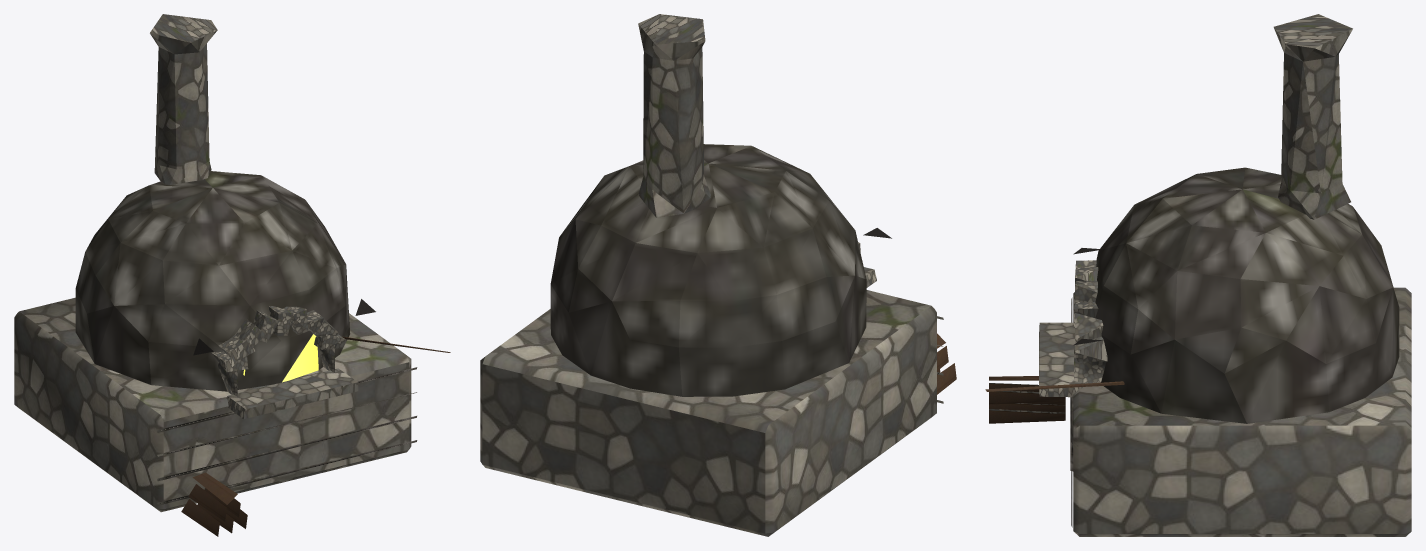
File: bakery_oven_lod2.glb
3 views of the same model, side by side, from view 1: azimuth 30°, elevation 25°; view 2: azimuth 150°, elevation 25°; view 3: azimuth 270°, elevation 25° (orthographic). The views are drawn at different scales.
Visible parts, largest first — view 1: bakery_oven; view 2: bakery_oven; view 3: bakery_oven.
Part boxes in pixels (bbox=[...]): bakery_oven: bbox=[14, 14, 450, 536]; bakery_oven: bbox=[480, 14, 956, 536]; bakery_oven: bbox=[985, 14, 1411, 536].
Bounding box in the file's own units: 2.24 × 3.15 × 2.77.
1 material, 1 textured.
